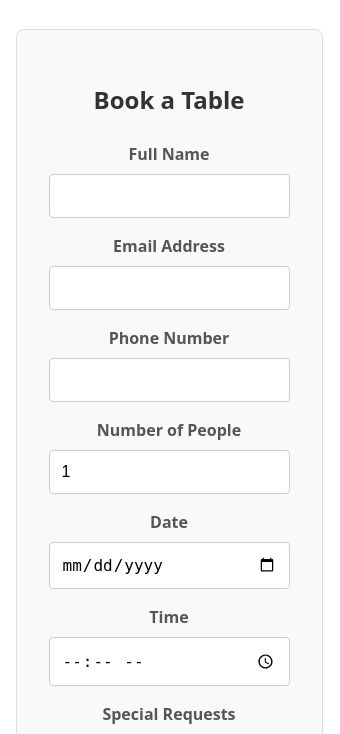
Test: BookingForm › shows validation error for invalid email format
Step 1. Type "invalid-email" into the field labelled "Email Address" → (169, 288), box [48, 266, 290, 310]
(page scrolled)
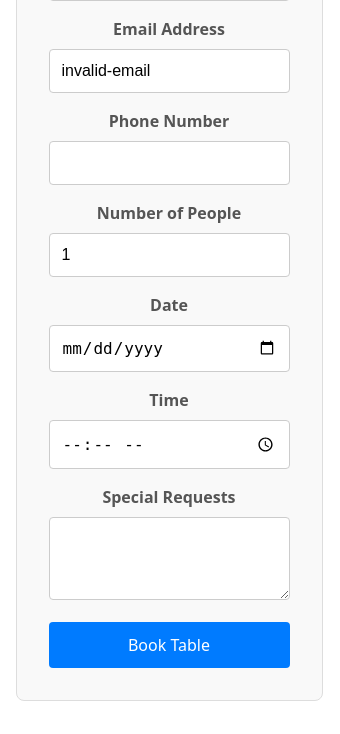
Step 2. Click the button "Book Table" → (169, 645), box [48, 622, 290, 668]
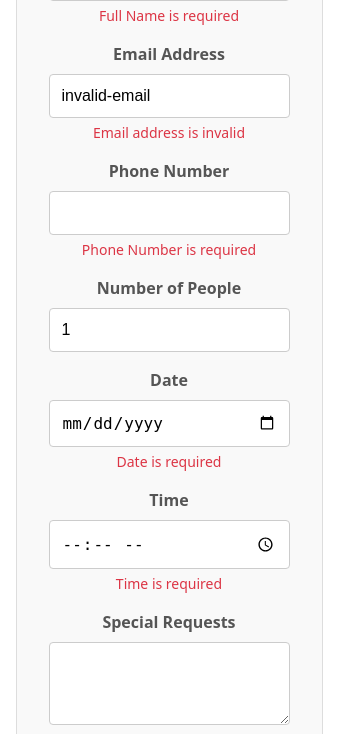
Expected: the text "Email address is invalid" is shown, [93, 123, 245, 142]
